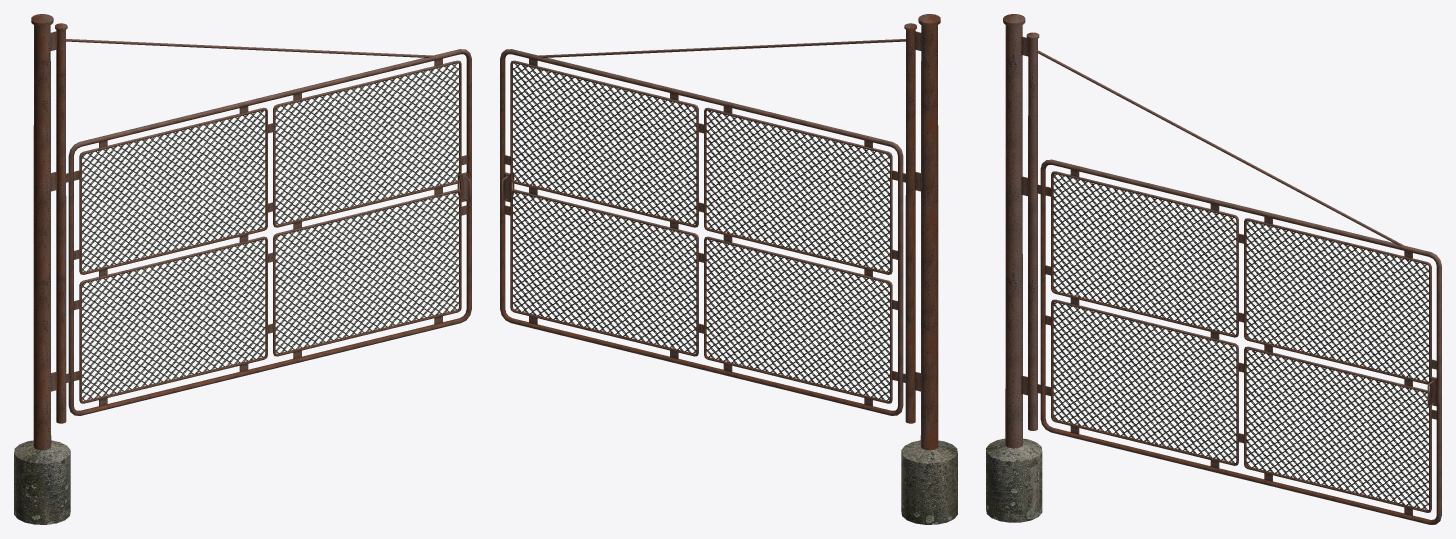
The model's file is WiredFenceGate.FBX.
The picture shows the model from 3 angles, left to right: view 1: azimuth 30°, elevation 25°; view 2: azimuth 150°, elevation 25°; view 3: azimuth 330°, elevation 25°; orthographic projection.
Visible parts, largest first — view 1: WiredFenceGateDoor, WiredFenceGatePole; view 2: WiredFenceGateDoor, WiredFenceGatePole; view 3: WiredFenceGateDoor, WiredFenceGatePole.
Part boxes in pixels (left/top/right/bottom): WiredFenceGateDoor: left=55, top=23, right=471, bottom=423; WiredFenceGatePole: left=14, top=14, right=70, bottom=524; WiredFenceGateDoor: left=500, top=23, right=916, bottom=423; WiredFenceGatePole: left=901, top=14, right=957, bottom=524; WiredFenceGateDoor: left=1026, top=32, right=1441, bottom=524; WiredFenceGatePole: left=986, top=14, right=1042, bottom=522.
Size of the model in its own units: 45.62 by 47.76 by 4.97.
